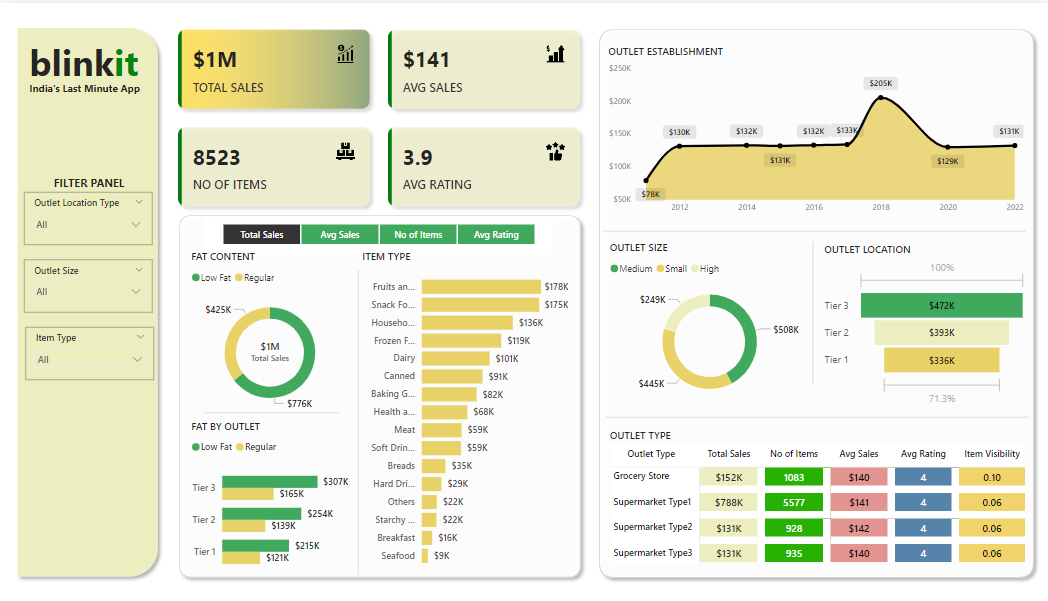

This screenshot's page, from the dashboard's own definition file:
{"tool":"powerbi","page":{"name":"Page 1","canvas":[1400,800],"ordinal":0},"visuals":[{"type":"shape","box":[14.3,25,205.4,750],"z":0},{"type":"textbox","box":[33.6,40.6,166.1,113.1],"z":1000},{"type":"textbox","box":[33.6,97.2,185.6,30],"z":2000},{"type":"cardVisual","fields":{"Data":["BlinkIT Grocery Data.Total Sales","BlinkIT Grocery Data.Avg Sales","BlinkIT Grocery Data.No of Items","BlinkIT Grocery Data.Avg Rating"]},"box":[219.2,17.7,570.9,270.4],"z":3000},{"type":"shape","box":[229.8,273.9,553.2,501],"z":4000},{"type":"donutChart","title":"FAT CONTENT","fields":{"Y":["BlinkIT Grocery Data.Total Sales"],"Category":["BlinkIT Grocery Data.Item Fat Content"]},"box":[251,328.7,219.2,229.8],"z":5000},{"type":"slicer","fields":{"Values":["Metrics.Metrics"]},"box":[271.9,287.7,464.9,40.4],"z":6000},{"type":"cardVisual","fields":{"Data":["BlinkIT Grocery Data.Total Sales"]},"box":[312.3,429.8,96.5,56.1],"z":7000},{"type":"clusteredBarChart","title":"FAT BY OUTLET","fields":{"Y":["BlinkIT Grocery Data.Total Sales"],"Category":["BlinkIT Grocery Data.Outlet Location Type"],"Series":["BlinkIT Grocery Data.Item Fat Content"]},"box":[251,553.2,219.2,217.4],"z":8000},{"type":"shape","box":[271.9,533.3,180.7,24.6],"z":9000},{"type":"shape","box":[468.3,355.2,19.4,406.5],"z":10000},{"type":"barChart","title":"ITEM TYPE","fields":{"Y":["BlinkIT Grocery Data.Total Sales"],"Category":["BlinkIT Grocery Data.Item Type"]},"box":[479,328.7,284.5,433],"z":11000},{"type":"shape","box":[790,26.5,597.4,749.4],"z":12000},{"type":"lineChart","title":"OUTLET ESTABLISHMENT","fields":{"Y":["BlinkIT Grocery Data.Total Sales"],"Category":["BlinkIT Grocery Data.Outlet Establishment Year"]},"box":[805.9,53,563.8,235.1],"z":13000},{"type":"shape","box":[804.1,291.6,563.8,24.7],"z":14000},{"type":"donutChart","title":"OUTLET SIZE","fields":{"Y":["BlinkIT Grocery Data.Total Sales"],"Category":["BlinkIT Grocery Data.Outlet Size"]},"box":[807.7,316.4,275.7,224.5],"z":15000},{"type":"shape","box":[1076.3,318.1,15.9,190.9],"z":16000},{"type":"funnel","title":"OUTLET LOCATION","fields":{"Y":["Sum(BlinkIT Grocery Data.Sales)"],"Category":["BlinkIT Grocery Data.Outlet Location Type"]},"box":[1094,318.1,279.2,224.5],"z":17000},{"type":"shape","box":[807.7,540.8,563.8,24.7],"z":18000},{"type":"pivotTable","title":"OUTLET TYPE","fields":{"Rows":["BlinkIT Grocery Data.Outlet Type"],"Values":["BlinkIT Grocery Data.Total Sales","BlinkIT Grocery Data.No of Items","BlinkIT Grocery Data.Avg Sales","BlinkIT Grocery Data.Avg Rating","Avg(BlinkIT Grocery Data.Item Visibility)"]},"box":[807.7,565.6,565.6,210.3],"z":19000},{"type":"slicer","fields":{"Values":["BlinkIT Grocery Data.Outlet Location Type"]},"box":[31.8,252.7,171.4,70.7],"z":20000},{"type":"slicer","fields":{"Values":["BlinkIT Grocery Data.Outlet Size"]},"box":[31.8,342.9,171.4,70.7],"z":21000},{"type":"slicer","fields":{"Values":["BlinkIT Grocery Data.Item Type"]},"box":[33.6,431.2,171.4,70.7],"z":22000},{"type":"textbox","box":[33.6,224.5,169.7,49.5],"z":23000}]}

Visuals, with their boxes in screenshot pixels (x1, y1, x2, y2), scaled from the page's 1400x800 canvas onto the 1048x601 screenshot:
shape: Rect(11, 19, 164, 582)
textbox: Rect(25, 31, 149, 115)
textbox: Rect(25, 73, 164, 96)
cardVisual - BlinkIT Grocery Data.Total Sales x BlinkIT Grocery Data.Avg Sales: Rect(164, 13, 591, 216)
shape: Rect(172, 206, 586, 582)
"FAT CONTENT" donutChart: Rect(188, 247, 352, 420)
slicer - Metrics.Metrics: Rect(204, 216, 552, 246)
cardVisual - BlinkIT Grocery Data.Total Sales: Rect(234, 323, 306, 365)
"FAT BY OUTLET" clusteredBarChart: Rect(188, 416, 352, 579)
shape: Rect(204, 401, 339, 419)
shape: Rect(351, 267, 365, 572)
"ITEM TYPE" barChart: Rect(359, 247, 572, 572)
shape: Rect(591, 20, 1039, 583)
"OUTLET ESTABLISHMENT" lineChart: Rect(603, 40, 1025, 216)
shape: Rect(602, 219, 1024, 238)
"OUTLET SIZE" donutChart: Rect(605, 238, 811, 406)
shape: Rect(806, 239, 818, 382)
"OUTLET LOCATION" funnel: Rect(819, 239, 1028, 408)
shape: Rect(605, 406, 1027, 425)
"OUTLET TYPE" pivotTable: Rect(605, 425, 1028, 583)
slicer - BlinkIT Grocery Data.Outlet Location Type: Rect(24, 190, 152, 243)
slicer - BlinkIT Grocery Data.Outlet Size: Rect(24, 258, 152, 311)
slicer - BlinkIT Grocery Data.Item Type: Rect(25, 324, 153, 377)
textbox: Rect(25, 169, 152, 206)
